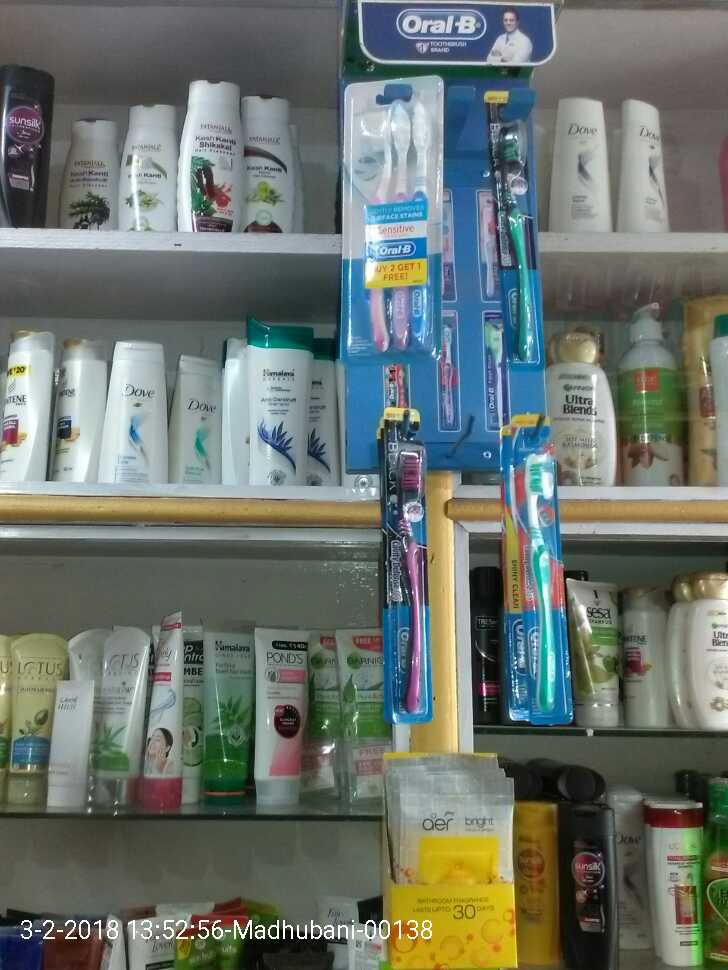oralb: (337, 77, 434, 347), (480, 81, 559, 357), (371, 407, 439, 724), (502, 417, 572, 720)
